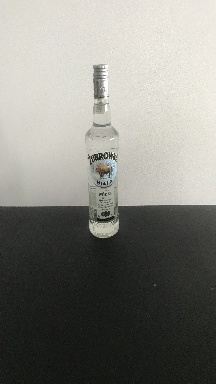butelka: (83, 60, 120, 240)
